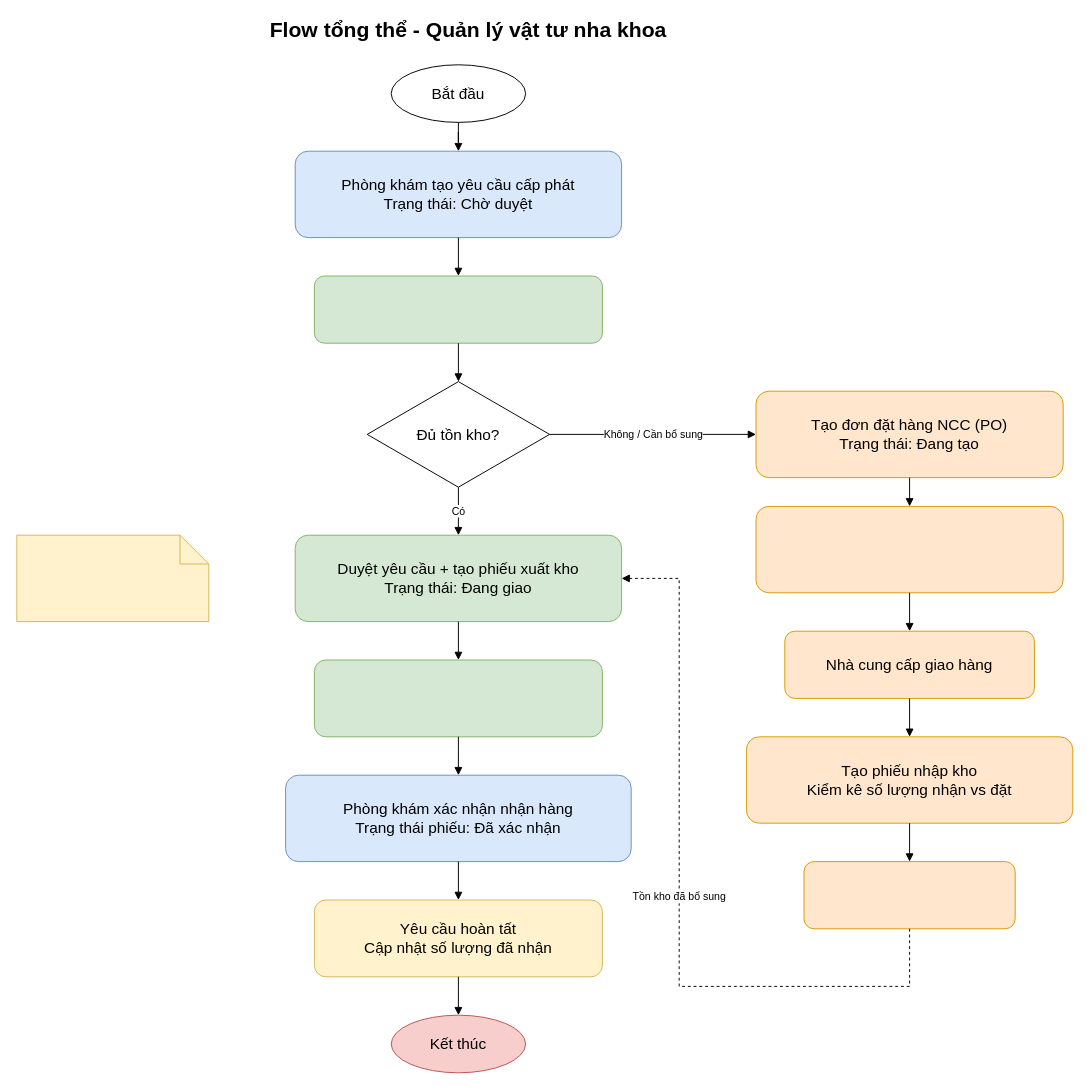
Some shapes in this 1090 by 1090 pixel diagram are drawn without their labels. Here are the shapes that lost their labels. From the top down, the box of each, then its label:
(313, 275, 602, 343): Kho trung tâm tiếp nhận yêu cầu
(755, 505, 1063, 593): Gửi PO cho nhà cung cấp Trạng thái: Đã gửi NCC
(16, 534, 209, 622): Có thể giao nhiều đợt cho 1 yêu cầu
(313, 659, 602, 737): Kho trung tâm giao hàng cho phòng khám
(803, 861, 1015, 929): Cập nhật tồn kho
